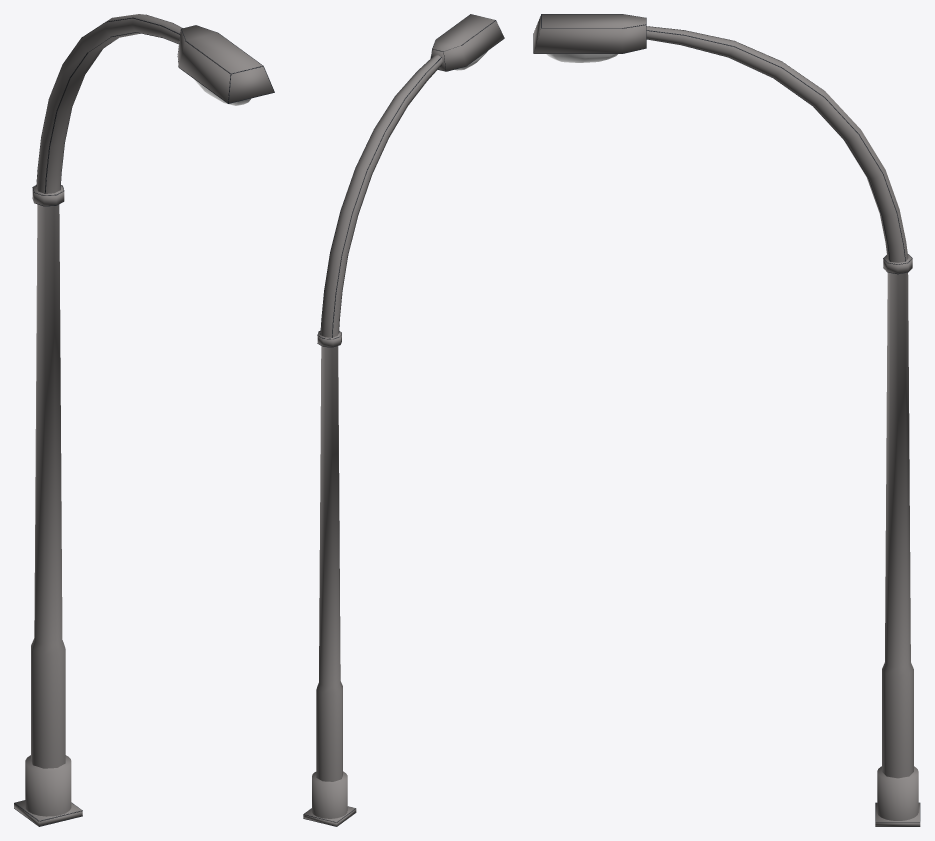
Rendered from streetlights.glb.
The picture shows the model from 3 angles, left to right: view 1: azimuth 30°, elevation 25°; view 2: azimuth 150°, elevation 25°; view 3: azimuth 270°, elevation 25°; orthographic projection. The views are drawn at different scales.
Parts seen in each view (by area): view 1: StreetLights, StreetLights_StructuralInk; view 2: StreetLights, StreetLights_StructuralInk; view 3: StreetLights, StreetLights_StructuralInk.
Part boxes in pixels (box(x1,y1,x2,y2)): StreetLights: box(14, 14, 273, 826); StreetLights_StructuralInk: box(14, 14, 274, 826); StreetLights: box(303, 14, 504, 826); StreetLights_StructuralInk: box(303, 14, 504, 826); StreetLights: box(533, 14, 920, 826); StreetLights_StructuralInk: box(533, 14, 920, 826).
Bounding box in the file's own units: 0.3671 × 6.65 × 2.93.
3 materials, 1 textured.
